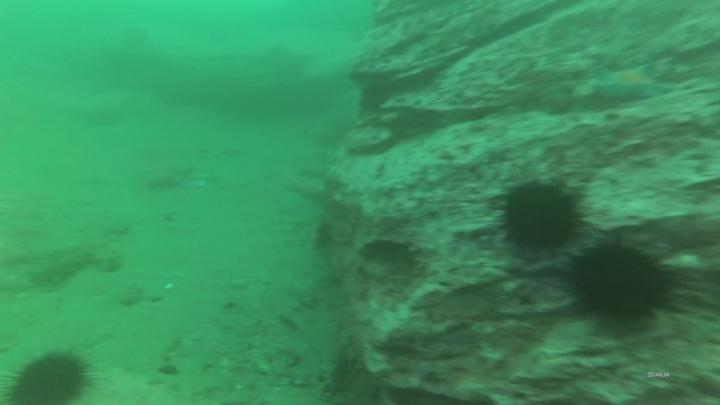echinus: (569, 241, 673, 326), (500, 175, 585, 259), (4, 347, 92, 405)
holothurian: (27, 241, 125, 292)
starfish: (586, 60, 670, 107)
